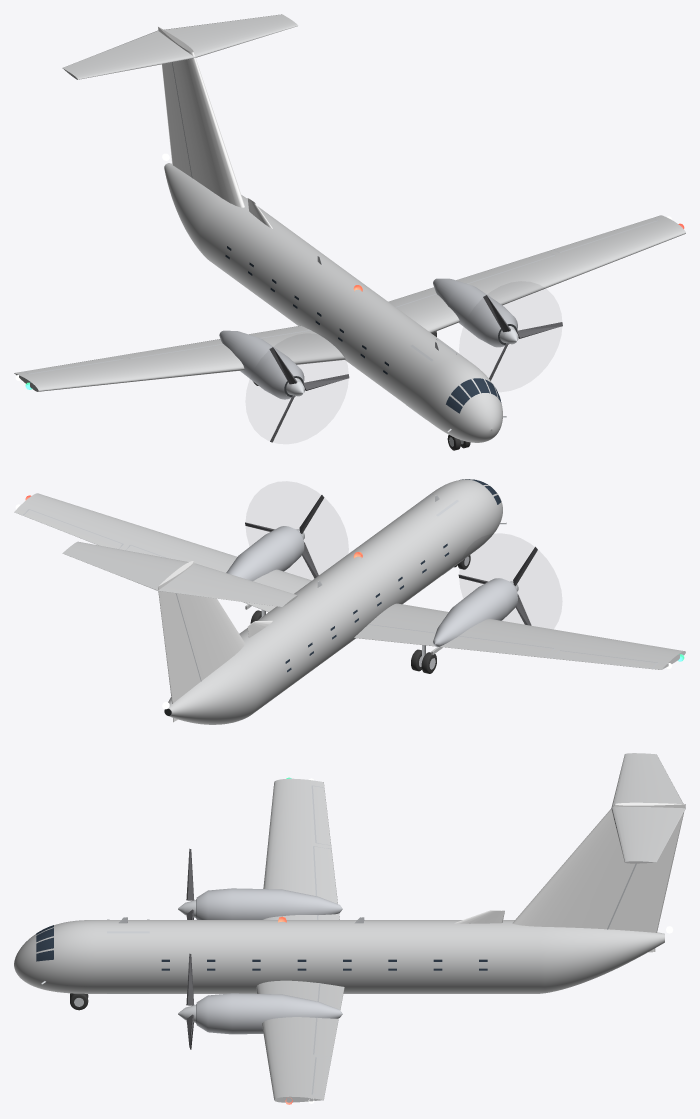
File: PAY3.glb
3 views of the same model, one above another, from view 1: azimuth 30°, elevation 25°; view 2: azimuth 150°, elevation 25°; view 3: azimuth 270°, elevation 25° (orthographic).
Visible parts, largest first — view 1: airframe, prop (×2); view 2: airframe, prop (×2), gear; view 3: airframe.
Boxes of the visible parts, left/top/right/bottom form: airframe: left=14, top=14, right=685, bottom=442; prop (×2): left=269, top=295, right=562, bottom=442; airframe: left=14, top=479, right=685, bottom=724; prop (×2): left=245, top=495, right=537, bottom=625; gear: left=245, top=555, right=470, bottom=673; airframe: left=14, top=753, right=685, bottom=1104.
Bounding box in the file's own units: 14.32 × 4.38 × 12.59.
